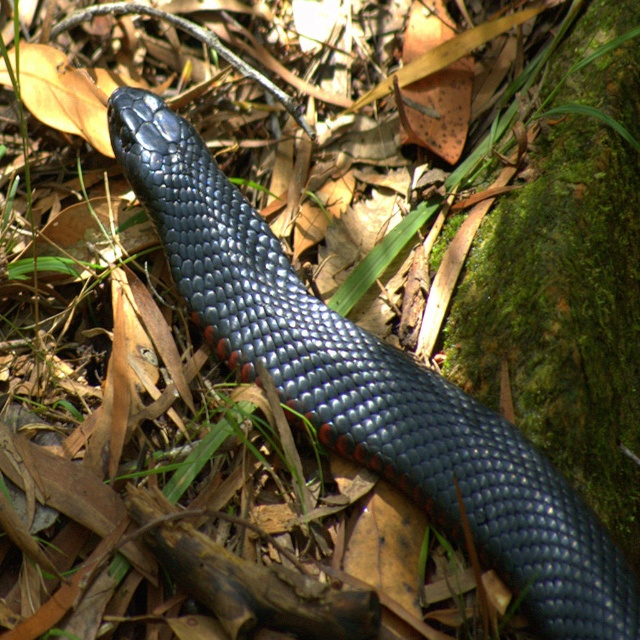Snake: (106, 85, 640, 640)
